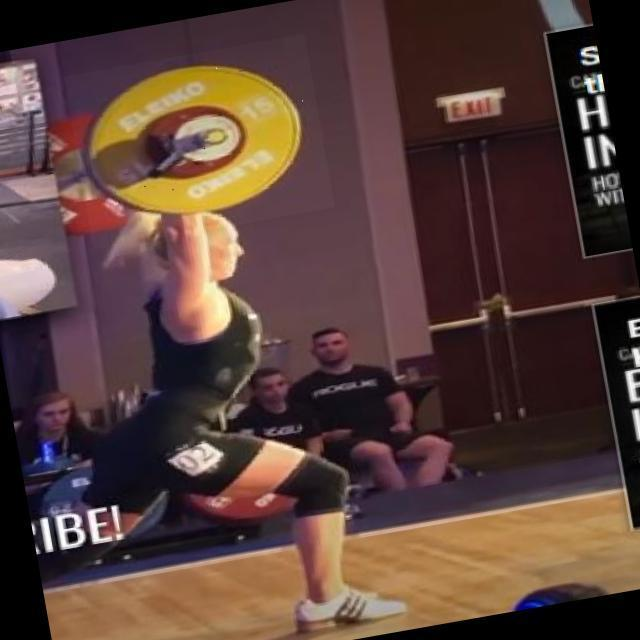barbell: (64, 35, 336, 251)
